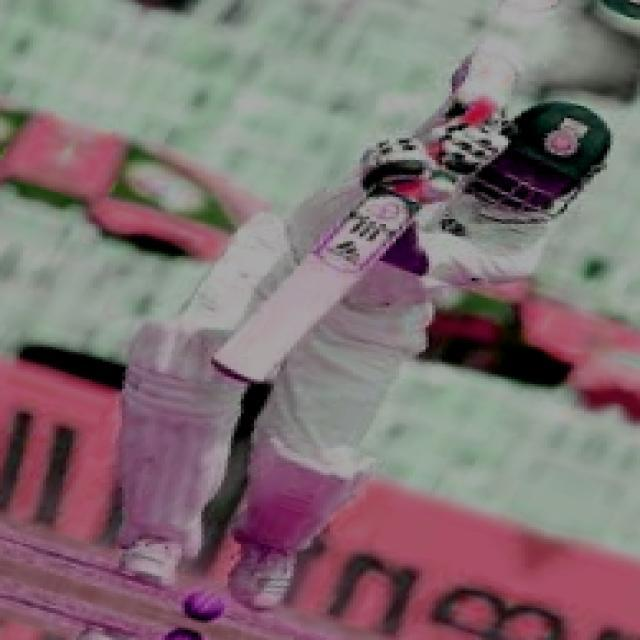bat: (209, 188, 424, 387)
toe: (208, 355, 276, 385)
